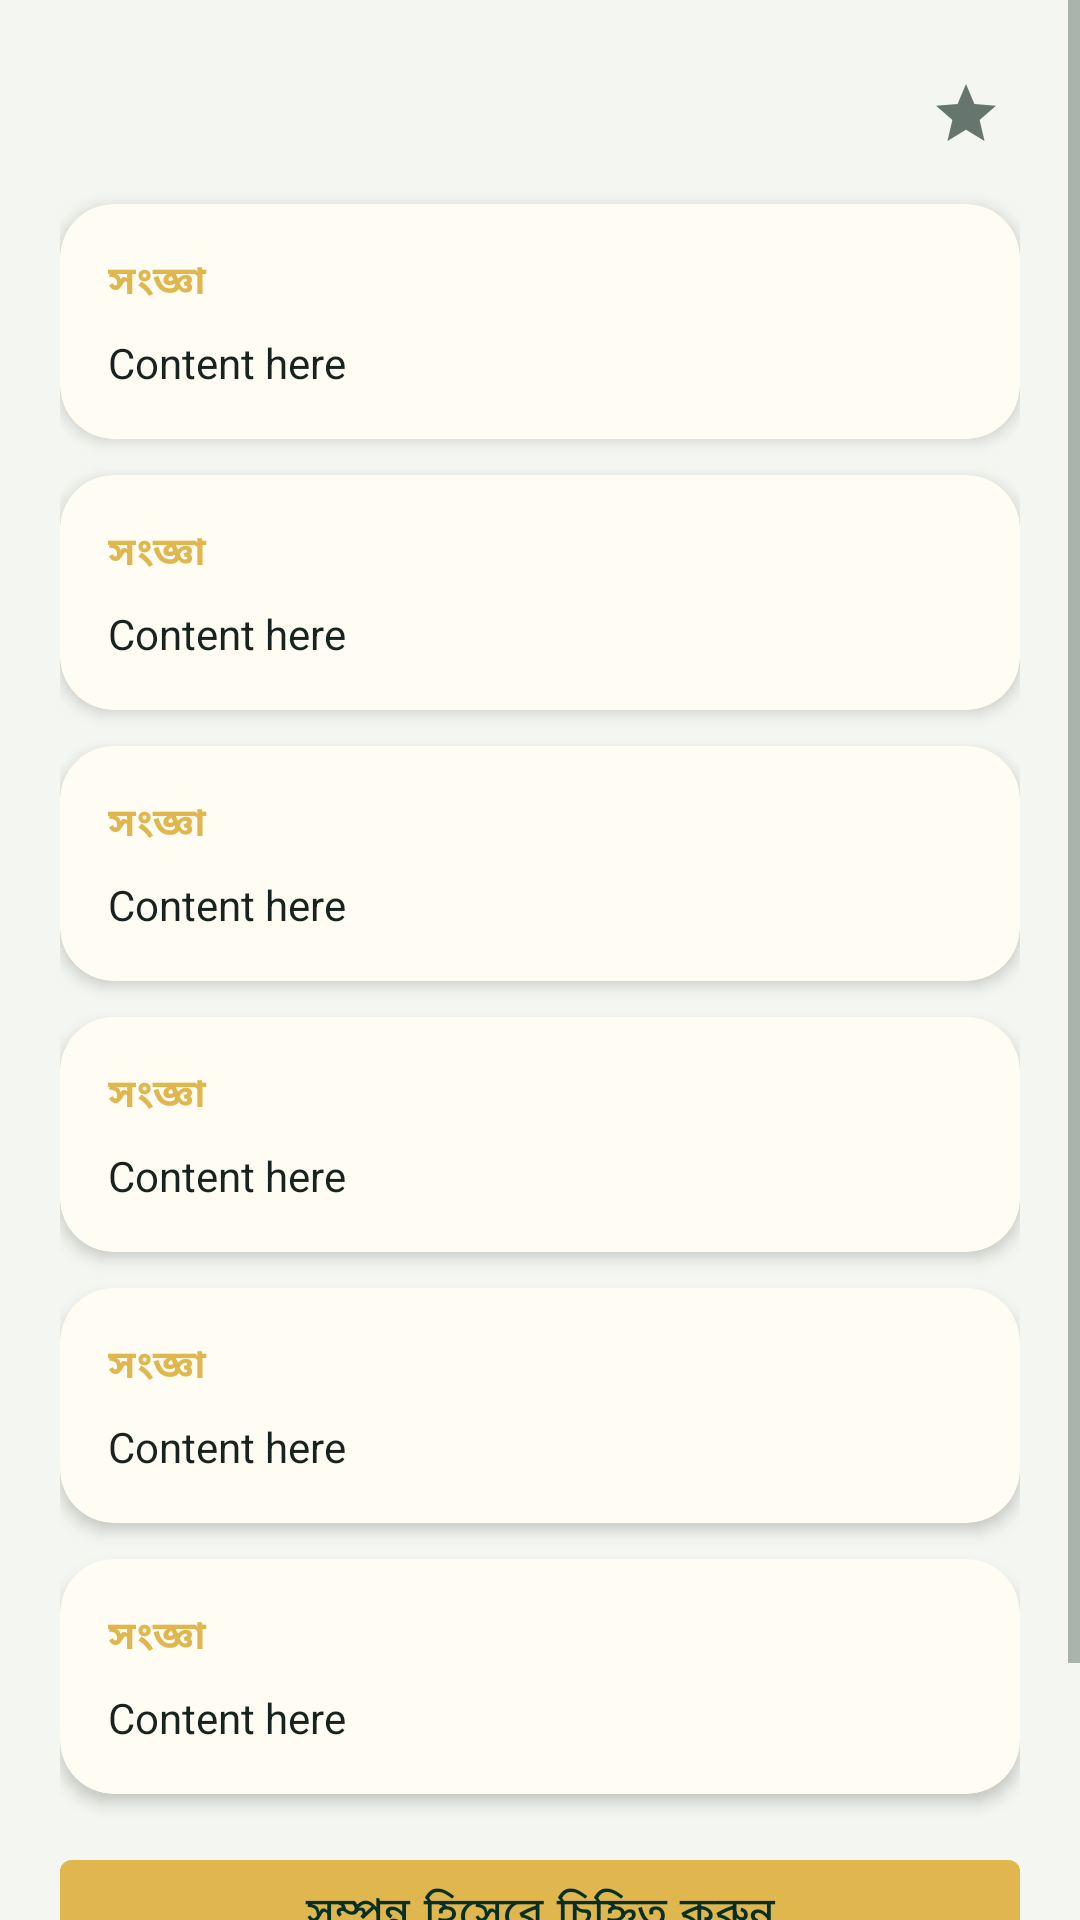

Icon bounding boxes for this 1080px x 1920px phone screenshot, format (x1, y1, x2, y2):
star: (936, 84, 996, 141)
